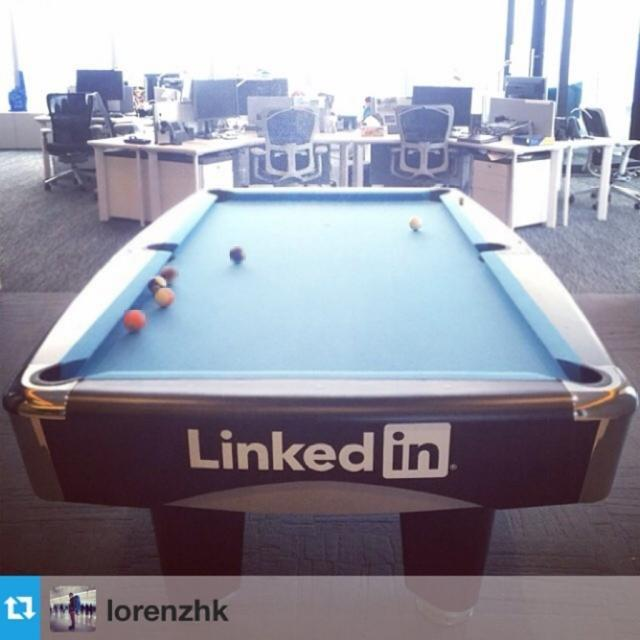Ball: (124, 310, 145, 332), (148, 275, 166, 295), (155, 288, 174, 306), (161, 266, 179, 284), (230, 247, 246, 264), (408, 215, 423, 232)
Billiard table: (3, 188, 638, 418)
